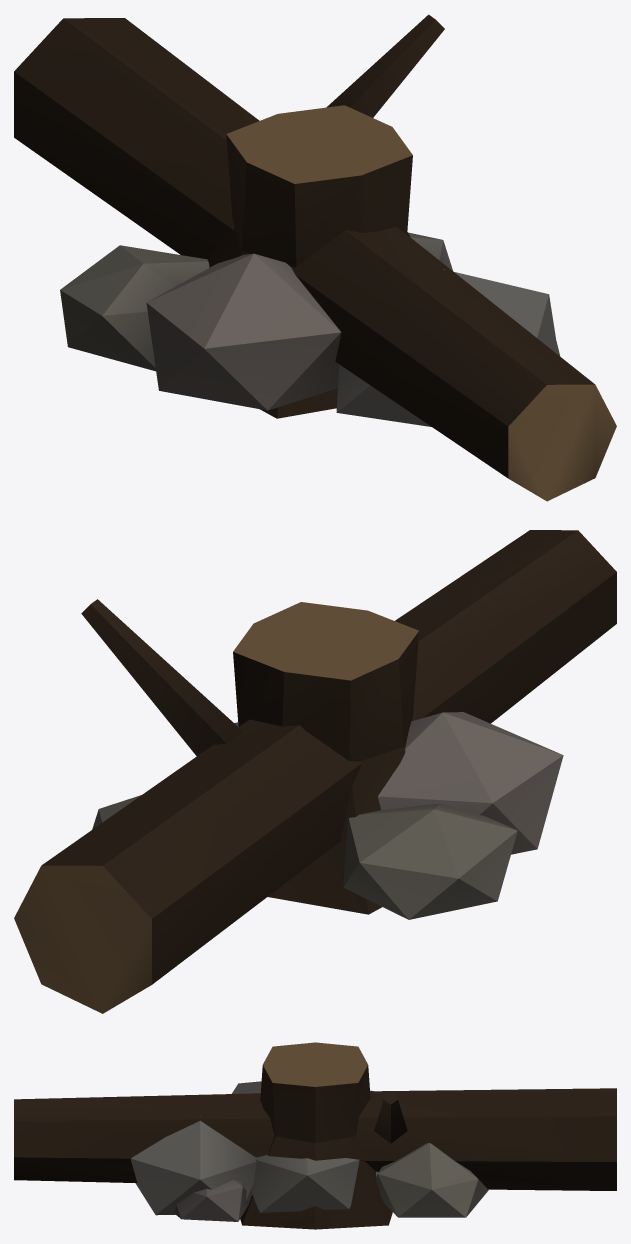
File: debris_grass.glb
3 views of the same model, one above another, from view 1: azimuth 30°, elevation 25°; view 2: azimuth 150°, elevation 25°; view 3: azimuth 270°, elevation 25° (orthographic). The views are drawn at different scales.
Visible parts, largest first — view 1: v1, v0, v2; view 2: v1, v0, v2; view 3: v1, v0, v2.
Part boxes in pixels (left/top/right/bottom): v1: left=14, top=14, right=616, bottom=501; v0: left=60, top=232, right=560, bottom=426; v2: left=207, top=105, right=412, bottom=418; v1: left=14, top=530, right=616, bottom=1013; v0: left=92, top=712, right=563, bottom=919; v2: left=233, top=602, right=418, bottom=914; v1: left=14, top=1088, right=616, bottom=1190; v0: left=131, top=1081, right=488, bottom=1221; v2: left=240, top=1042, right=392, bottom=1229.
Size of the model in its own units: 0.3811 by 0.2282 by 0.8.
